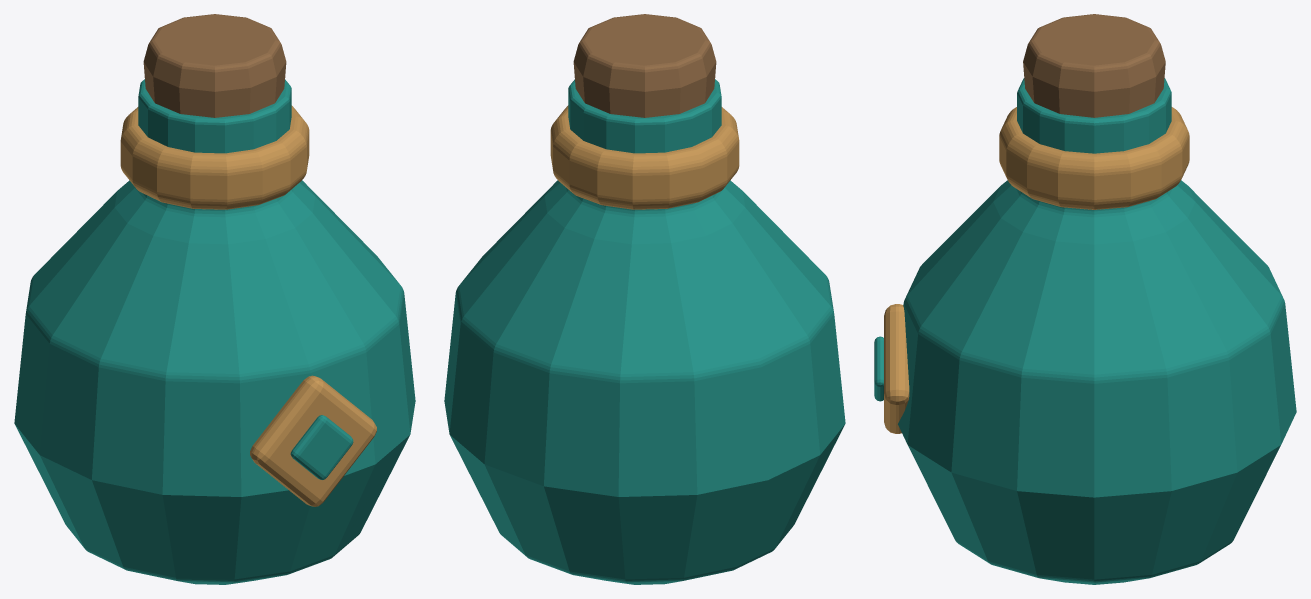
Rendered from JadePotion.glb.
3 views of the same model, side by side, from view 1: azimuth 30°, elevation 25°; view 2: azimuth 150°, elevation 25°; view 3: azimuth 270°, elevation 25° (orthographic).
Parts seen in each view (by area): view 1: JadePotion.001; view 2: JadePotion.001; view 3: JadePotion.001.
Boxes of the visible parts, x1,y1,x2,y2 form: JadePotion.001: (14,14,415,584); JadePotion.001: (444,14,845,584); JadePotion.001: (874,14,1296,584).
Size of the model in its own units: 0.68 by 0.95 by 0.71.
